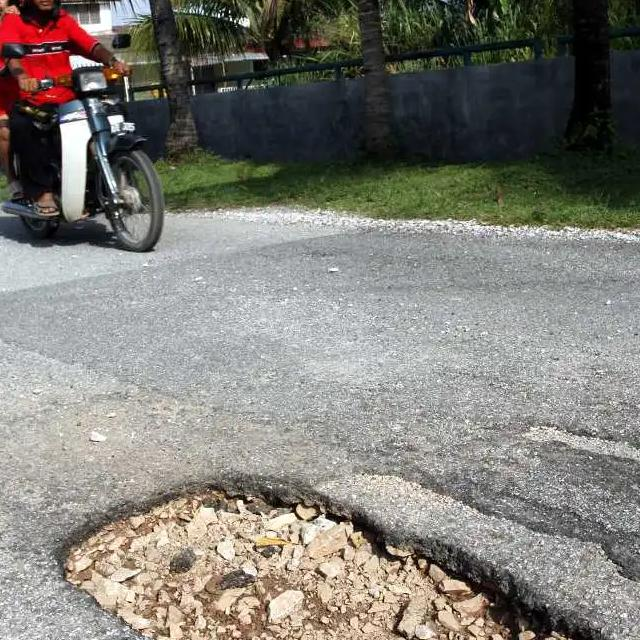lubang_kecil: (25, 443, 613, 640)
